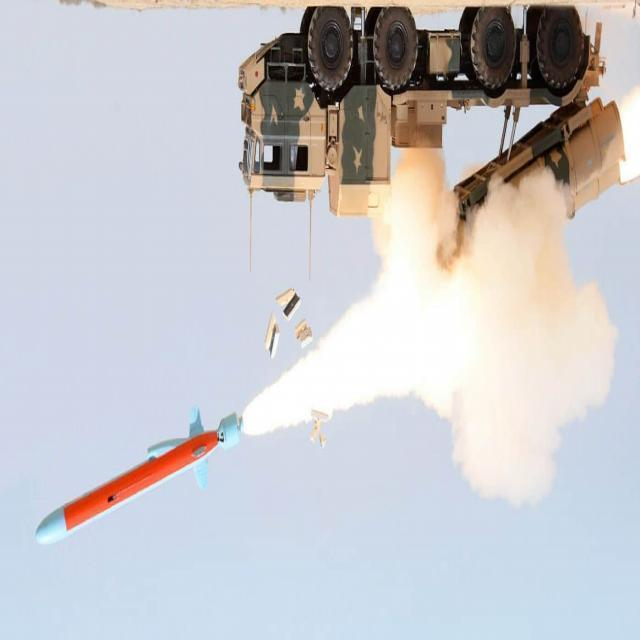missile: (30, 407, 245, 546)
